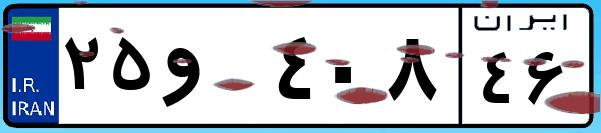0: (330, 28, 385, 110)
2: (57, 26, 110, 100)
4: (270, 28, 330, 110), (475, 38, 525, 113)
5: (110, 28, 158, 98)
6: (525, 38, 570, 115)
8: (385, 28, 445, 110)
و: (158, 20, 270, 120)
